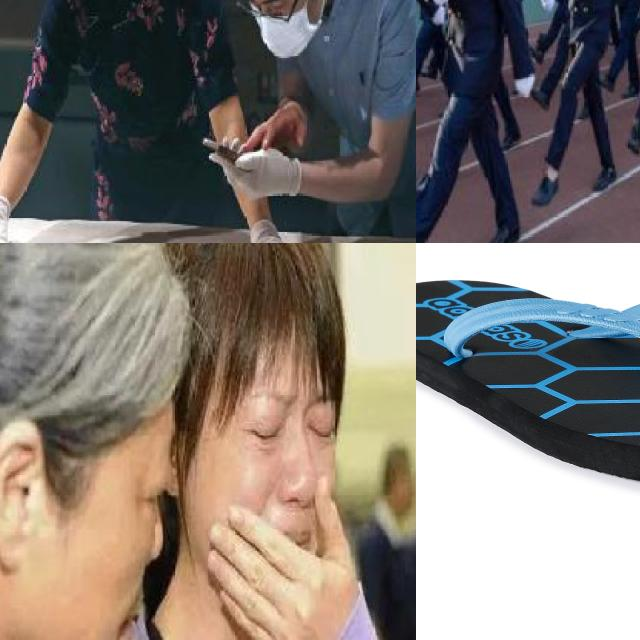No_Ear-Protection: (0, 415, 39, 570)
No_Glasses: (238, 388, 338, 452), (113, 459, 179, 523)
Sandals: (416, 278, 640, 494)
face_mask: (235, 0, 332, 59)
face_nomask: (0, 307, 178, 640), (214, 336, 346, 563)
glasses: (232, 0, 293, 28)
hand_glove: (209, 135, 294, 200), (516, 70, 535, 97), (432, 4, 448, 25), (541, 0, 555, 13)
hand_noglove: (204, 477, 361, 640), (240, 100, 307, 152)
head_nohelmet: (0, 243, 192, 378), (186, 243, 343, 360)
person: (6, 0, 243, 243), (203, 0, 416, 230), (438, 0, 541, 243), (545, 0, 617, 209)
shoes: (522, 170, 562, 208), (585, 160, 624, 194), (479, 220, 530, 243), (621, 129, 640, 160)
